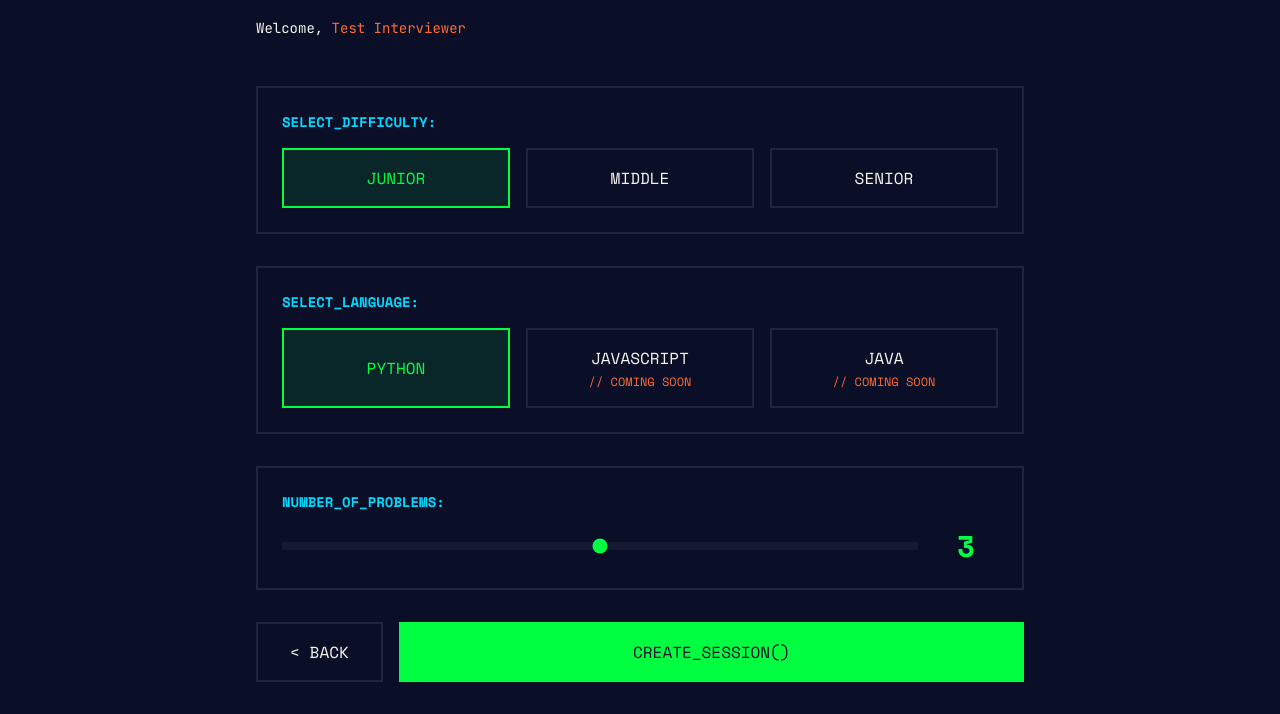
Scenario: SessionSetup › Copy Link Functionality › should have copy button in modal
(page scrolled)
Click the button "CREATE_SESSION()": (711, 652) [399,622,1024,682]
Wait 1000 ms
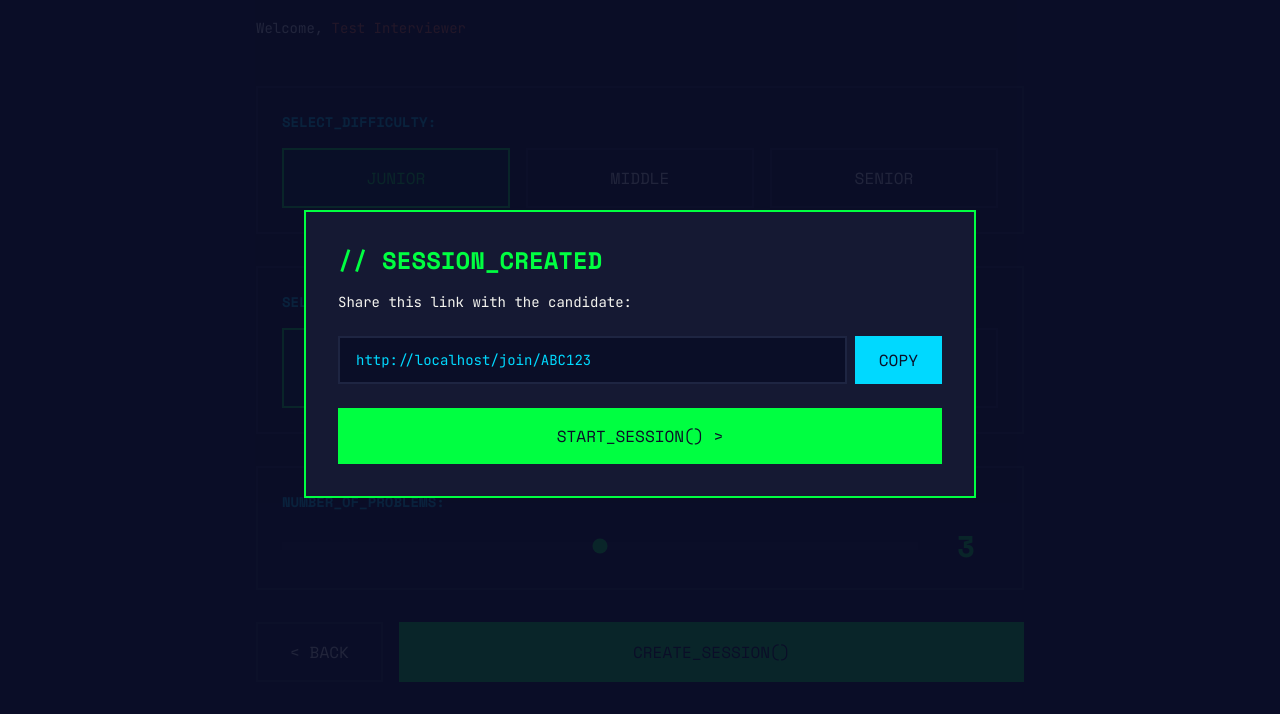
Result: the button "COPY" is shown at [855,336,942,384]
